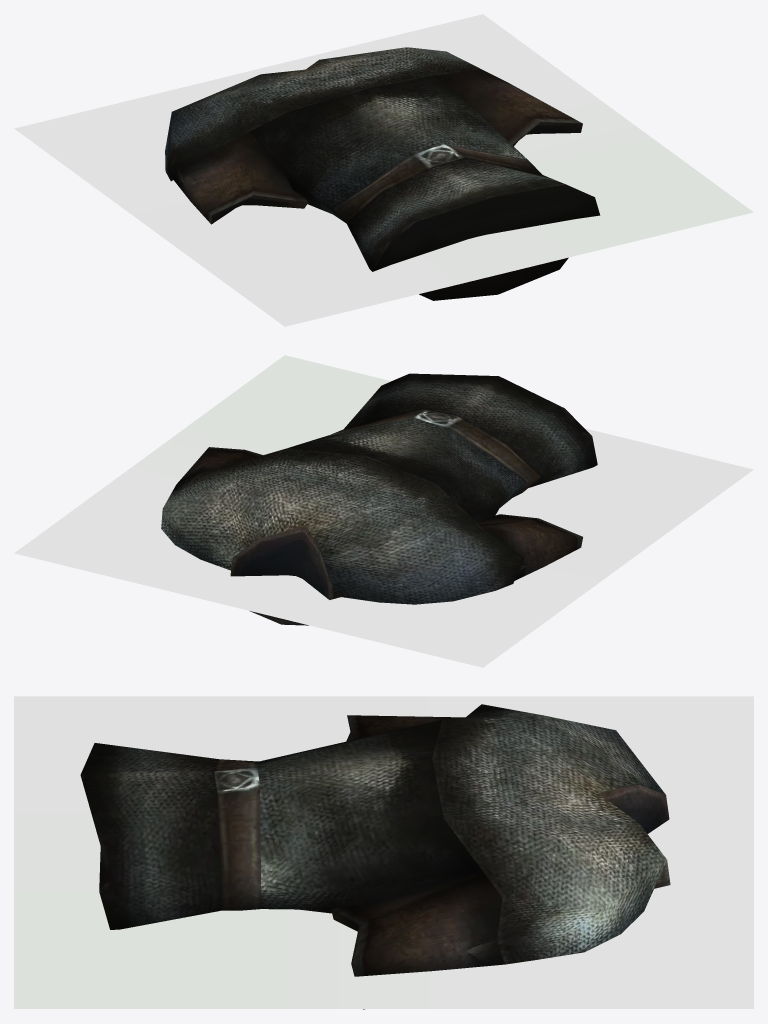
Rendered from ITAR_CHAIN_L.glb.
3 views of the same model, one above another, from view 1: azimuth 30°, elevation 25°; view 2: azimuth 150°, elevation 25°; view 3: azimuth 270°, elevation 25° (orthographic). The views are drawn at different scales.
Parts seen in each view (by area): view 1: Mesh; view 2: Mesh; view 3: Mesh.
Boxes of the visible parts, x1,y1,x2,y2 form: Mesh: [14, 14, 753, 326]; Mesh: [14, 355, 753, 667]; Mesh: [14, 696, 753, 1009].
Size of the model in its own units: 0.8356 by 0.1873 by 0.8356.
Materials: 2 (2 with a texture image).
